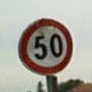limite 50: (17, 16, 74, 75)
